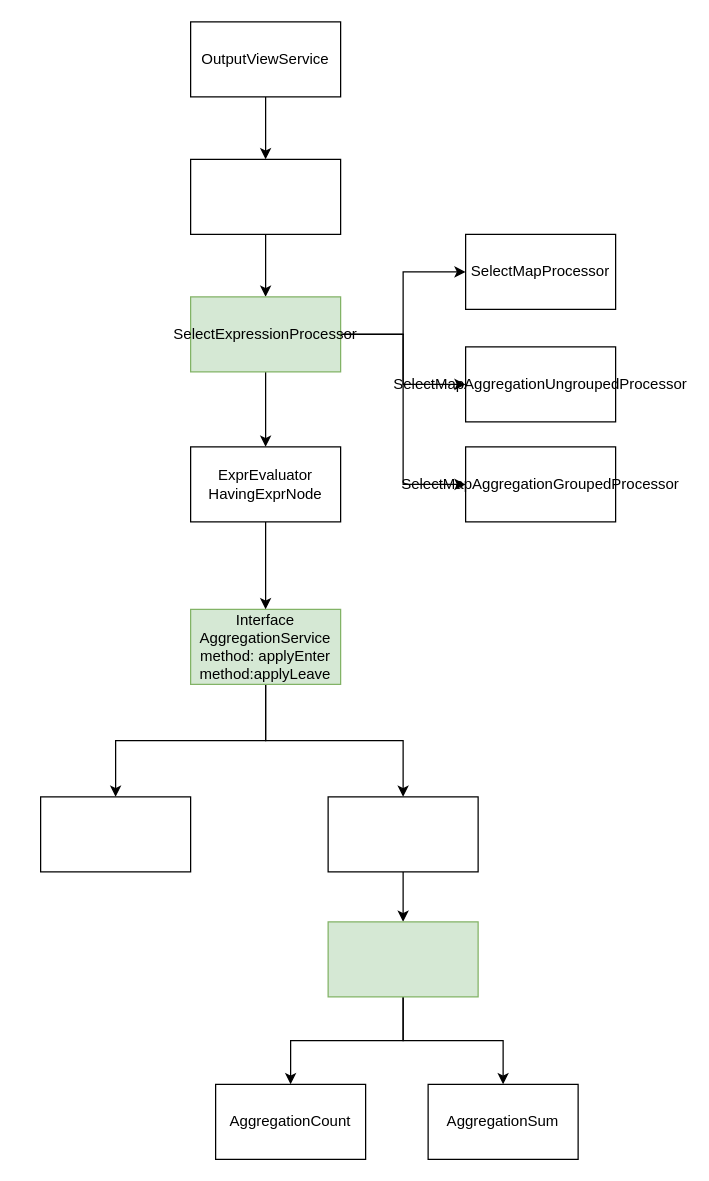
Some shapes in this 709 by 1181 pixel diagram are drawn without their labels. The centre of each missing label's shape, as x and y in pixels:
"AggregationMethod" goes at point (402, 959).
"AggregationServiceGrouped" goes at point (115, 834).
"AggregationServiceUngrouped" goes at point (402, 834).
"StatementResultService" goes at point (265, 196).
